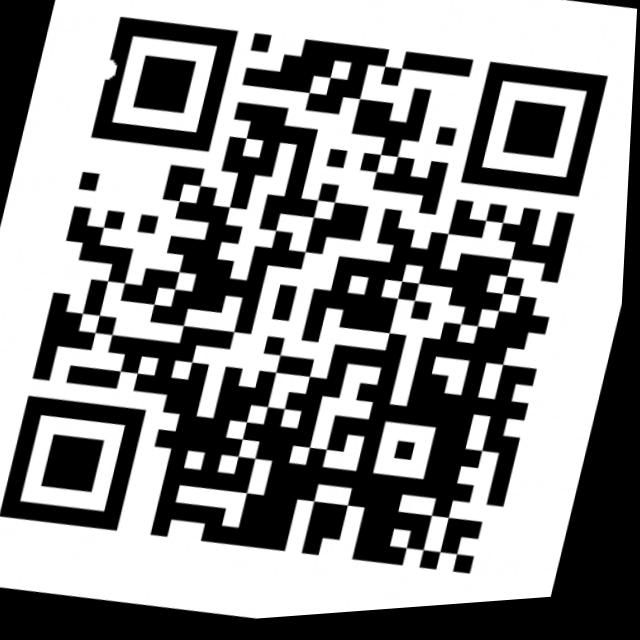QR_CODE: (0, 0, 639, 635)
